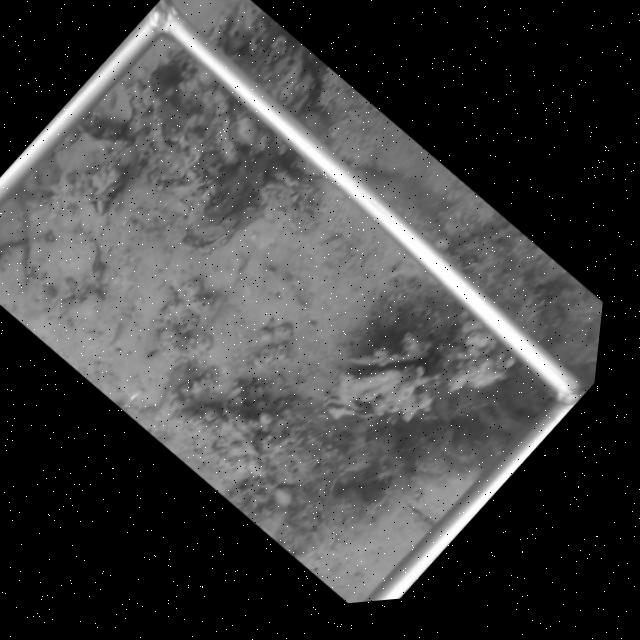Oyster-Indeterminate: (34, 228, 103, 301)
Oyster-Open: (335, 343, 431, 387), (175, 215, 243, 258), (321, 396, 375, 424)
